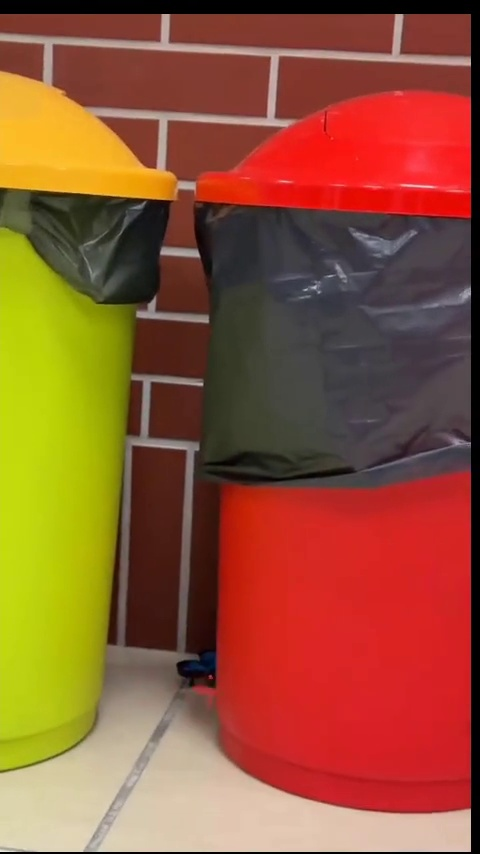drone: (174, 644, 221, 686)
